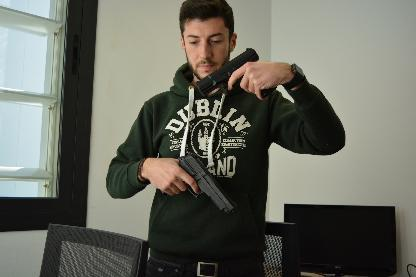pistol: (158, 151, 238, 214), (194, 46, 278, 98)
